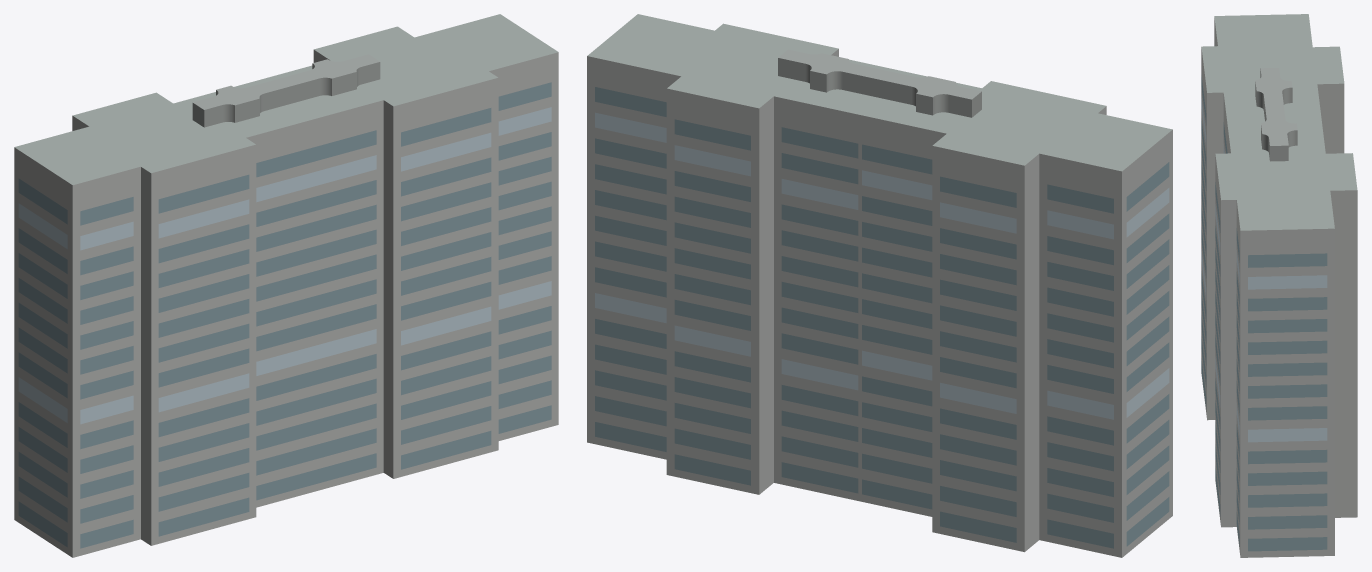
The model's file is apt-a10024172.glb.
The picture shows the model from 3 angles, left to right: view 1: azimuth 30°, elevation 25°; view 2: azimuth 150°, elevation 25°; view 3: azimuth 270°, elevation 25°; orthographic projection. The views are drawn at different scales.
Visible parts, largest first — view 1: apt-a10024172; view 2: apt-a10024172; view 3: apt-a10024172.
Boxes of the visible parts, left/top/right/bottom form: apt-a10024172: left=14, top=14, right=558, bottom=557; apt-a10024172: left=587, top=14, right=1172, bottom=557; apt-a10024172: left=1201, top=14, right=1357, bottom=557.
Bounding box in the file's own units: 55.62 × 41 × 16.93.
